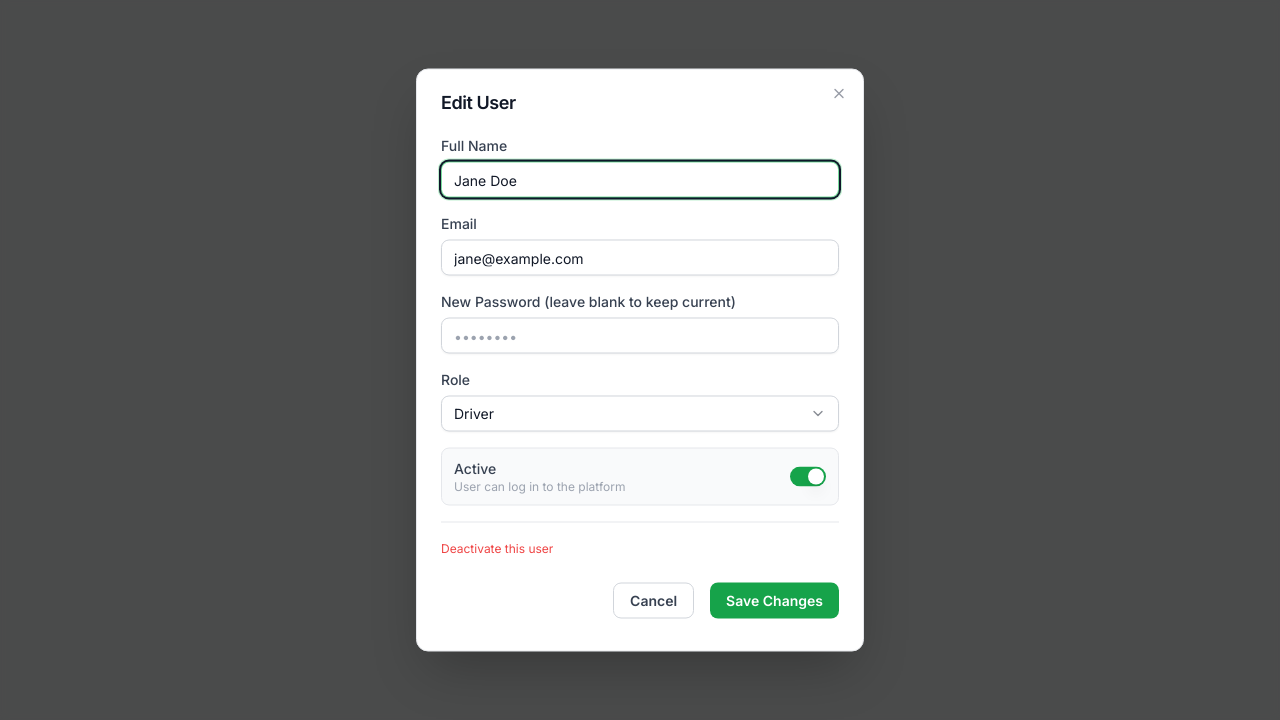
Test: Client-side validation › shows validation error when new password in edit mode is too short
This screenshot has width=1280, height=720.
Type "short" into the password field labelled "New Password (leave blank to keep current)" at (640, 336), box [441,318,839,354]
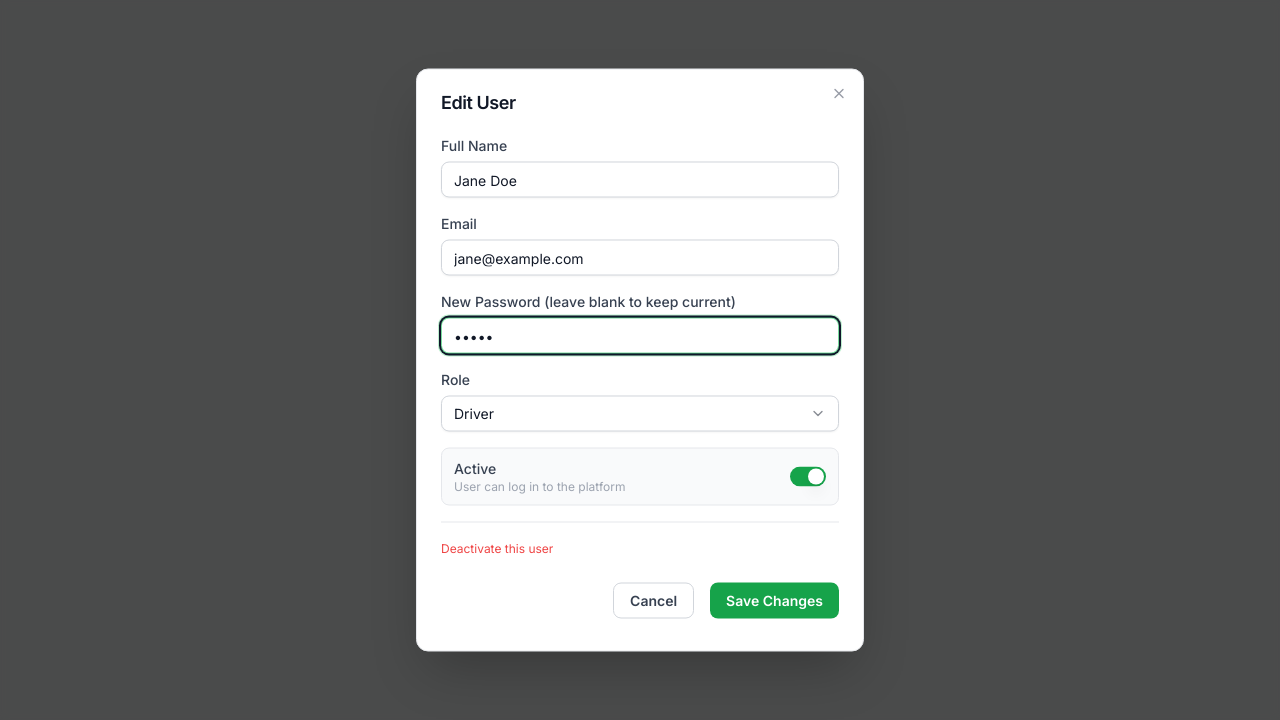
Click the button "Save Changes" at (775, 600), box [710,582,839,618]
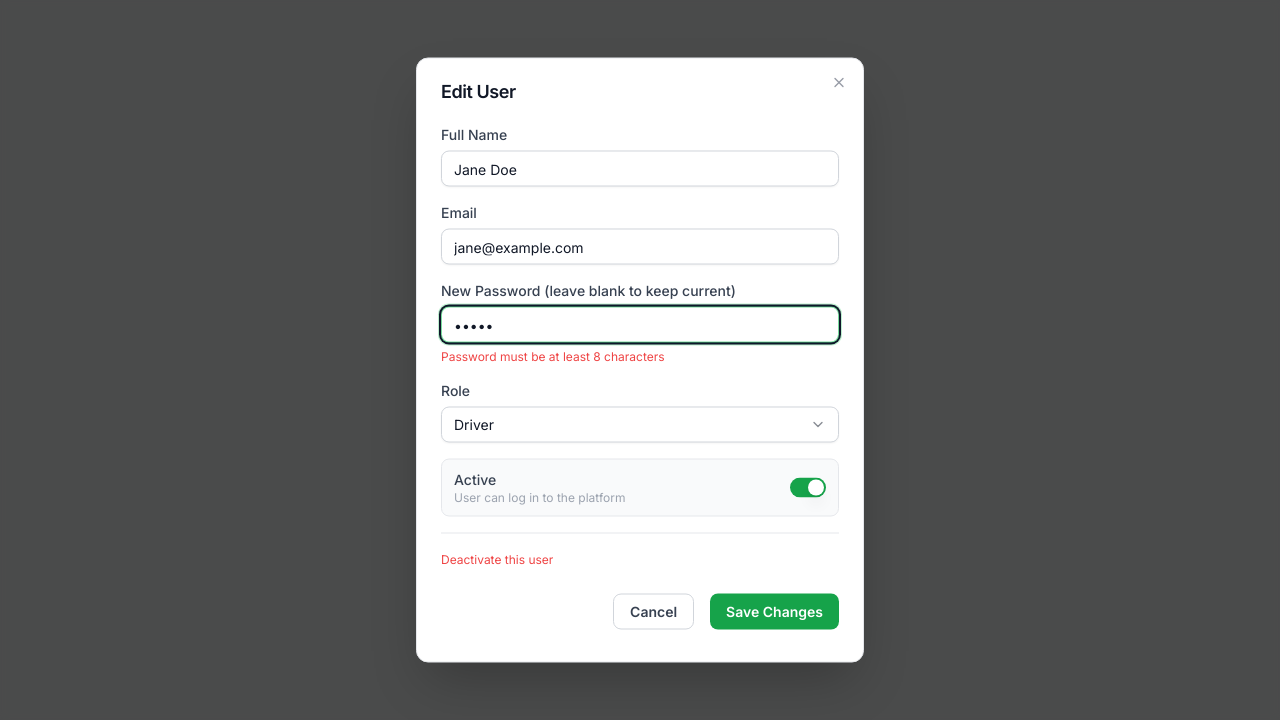
Now the text "Password must be at least 8 characters" is shown, box [441,348,665,364]
